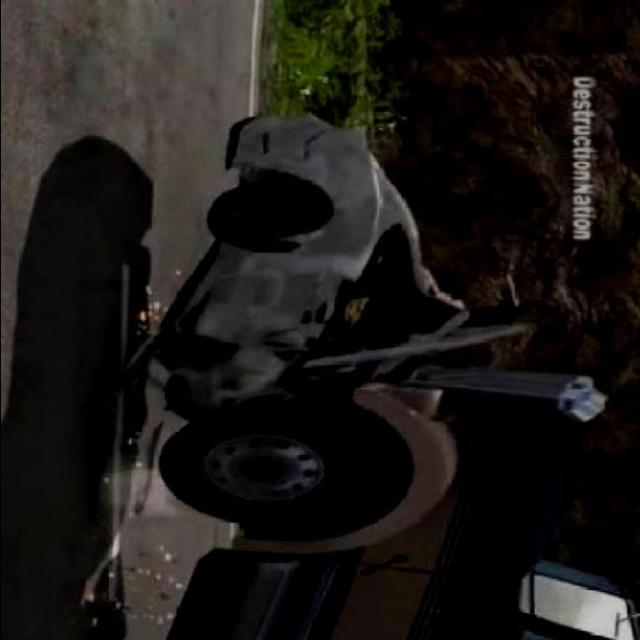accident: (188, 237, 539, 537)
